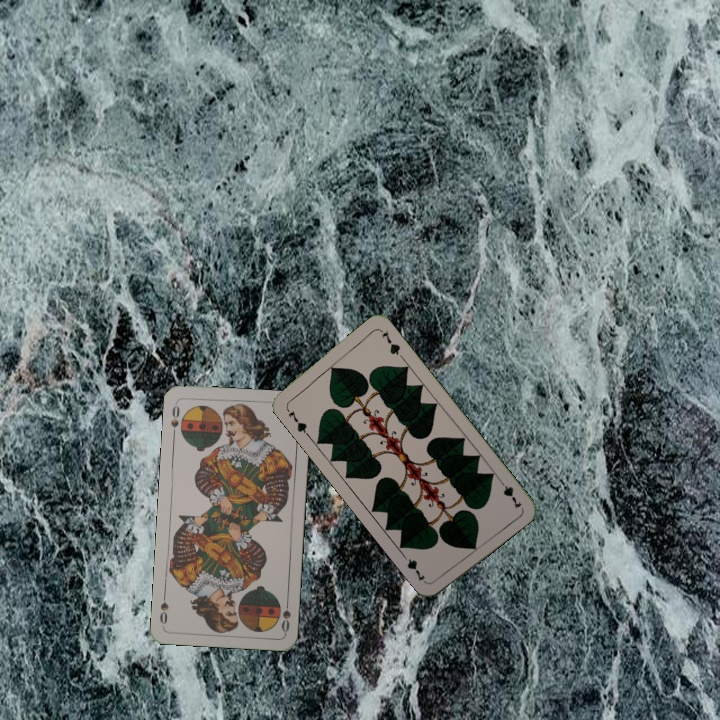G7: (495, 475, 524, 511), (282, 403, 311, 438)
SO: (277, 594, 293, 635), (167, 399, 182, 440)
